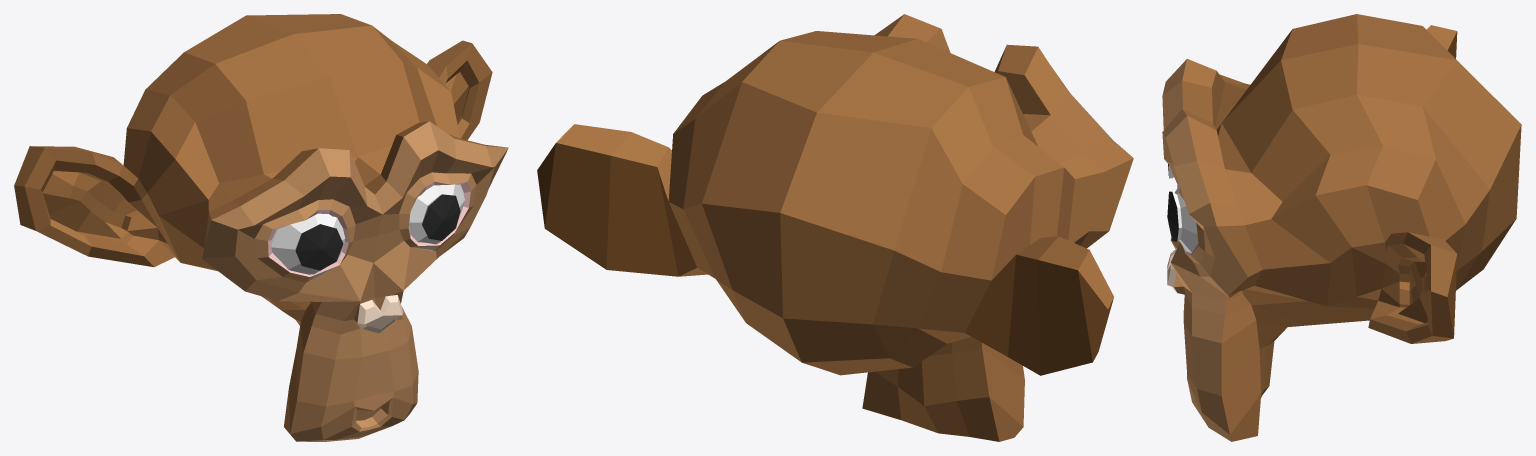
The model's file is suzane.glb.
3 renders of one model, left to right at view 1: azimuth 30°, elevation 25°; view 2: azimuth 150°, elevation 25°; view 3: azimuth 270°, elevation 25°, orthographic. The views are drawn at different scales.
Parts seen in each view (by area): view 1: Suzanne; view 2: Suzanne; view 3: Suzanne.
Part boxes in pixels (x1,y1,x2,y2): Suzanne: (14,14,508,441); Suzanne: (537,14,1133,441); Suzanne: (1162,14,1521,441).
Size of the model in its own units: 2.73 by 1.97 by 1.7.
Materials: 1 (1 with a texture image).
